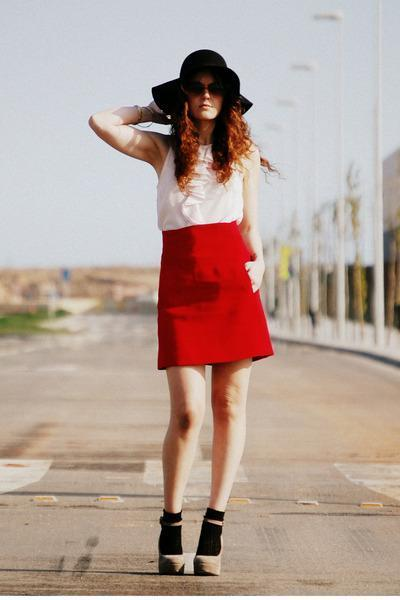hat: (164, 50, 227, 99)
shirt: (156, 145, 242, 230)
shoe: (132, 508, 224, 574)
skirt: (157, 219, 272, 369)
